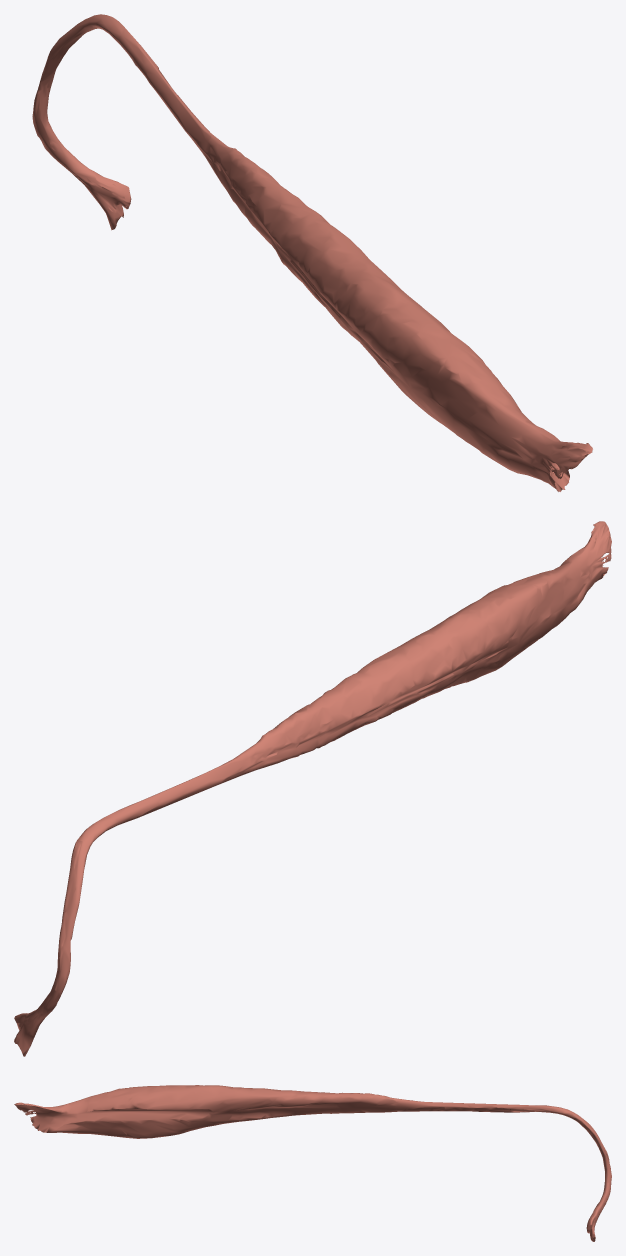
The picture shows the model from 3 angles, top to bottom: view 1: azimuth 30°, elevation 25°; view 2: azimuth 150°, elevation 25°; view 3: azimuth 270°, elevation 25°; orthographic projection. The views are drawn at different scales.
Parts seen in each view (by area): view 1: 右侧腓骨长肌; view 2: 右侧腓骨长肌; view 3: 右侧腓骨长肌.
Part boxes in pixels (x1,y1,x2,y2): 右侧腓骨长肌: [32, 14, 592, 491]; 右侧腓骨长肌: [14, 521, 611, 1056]; 右侧腓骨长肌: [14, 1085, 611, 1241].
Bounding box in the file's own units: 0.0866 × 0.1321 × 0.5586.
